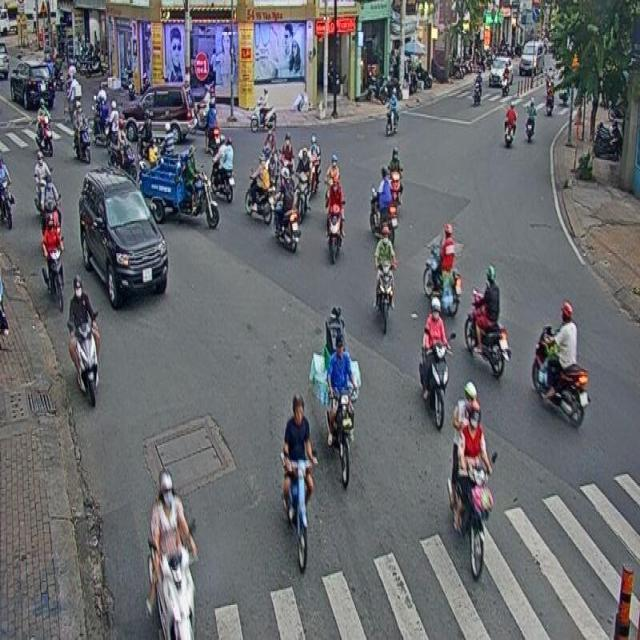car: (79, 166, 168, 308)
motorcycle: (447, 378, 492, 580), (146, 469, 198, 640), (530, 299, 589, 428), (280, 392, 318, 573), (464, 264, 511, 378), (418, 296, 456, 430), (326, 334, 358, 489), (66, 274, 100, 407), (422, 222, 462, 317), (374, 225, 396, 334), (272, 168, 300, 252), (243, 152, 273, 224), (42, 214, 64, 312), (210, 134, 235, 204), (326, 175, 345, 264), (35, 99, 54, 159), (72, 101, 90, 163), (387, 146, 403, 208)
